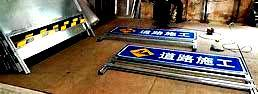sign: (117, 47, 246, 71), (109, 26, 199, 39)
